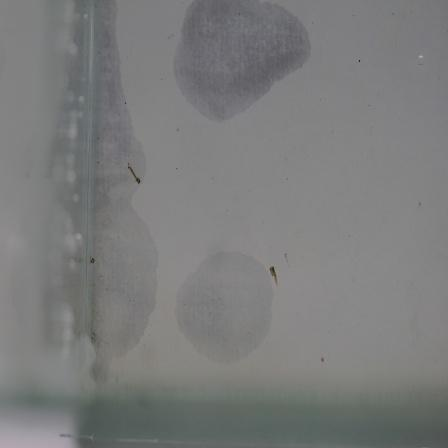Jentik-Nyamuk: (124, 159, 145, 191), (268, 263, 281, 290)
